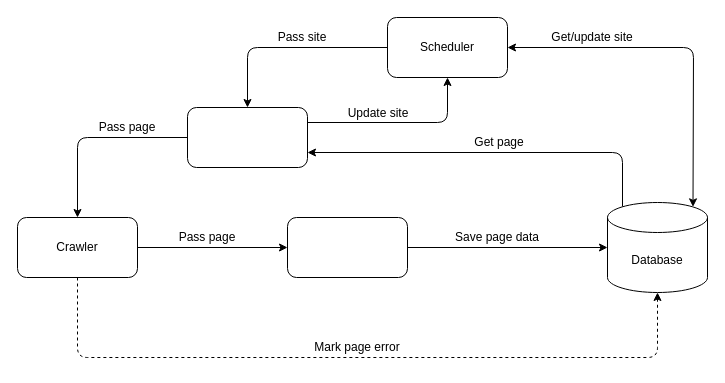
Image size: 725x383. Some labels were removed from this diagram. Each missing label, with the centre of its shape:
"Frontier" belongs at pixel 247 137.
"PageHandler" belongs at pixel 347 247.
